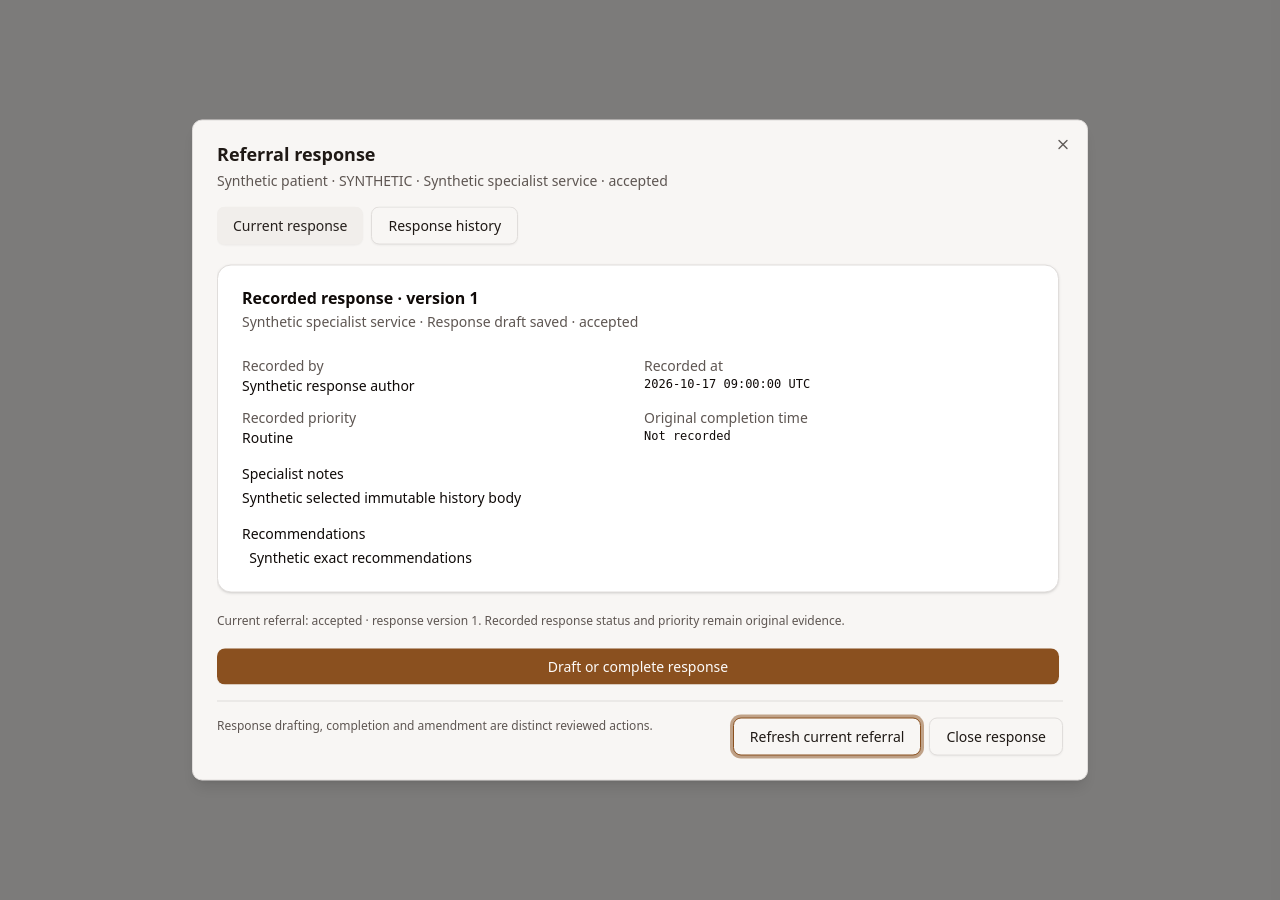
Scenario: reads exact historical body only after selecting a metadata version and never substitutes current content
Expected: the text "Synthetic selected immutable history body" is shown, [242,488,521,506]
Click the button "Response history".
click(445, 226)  # box [372,206,518,244]
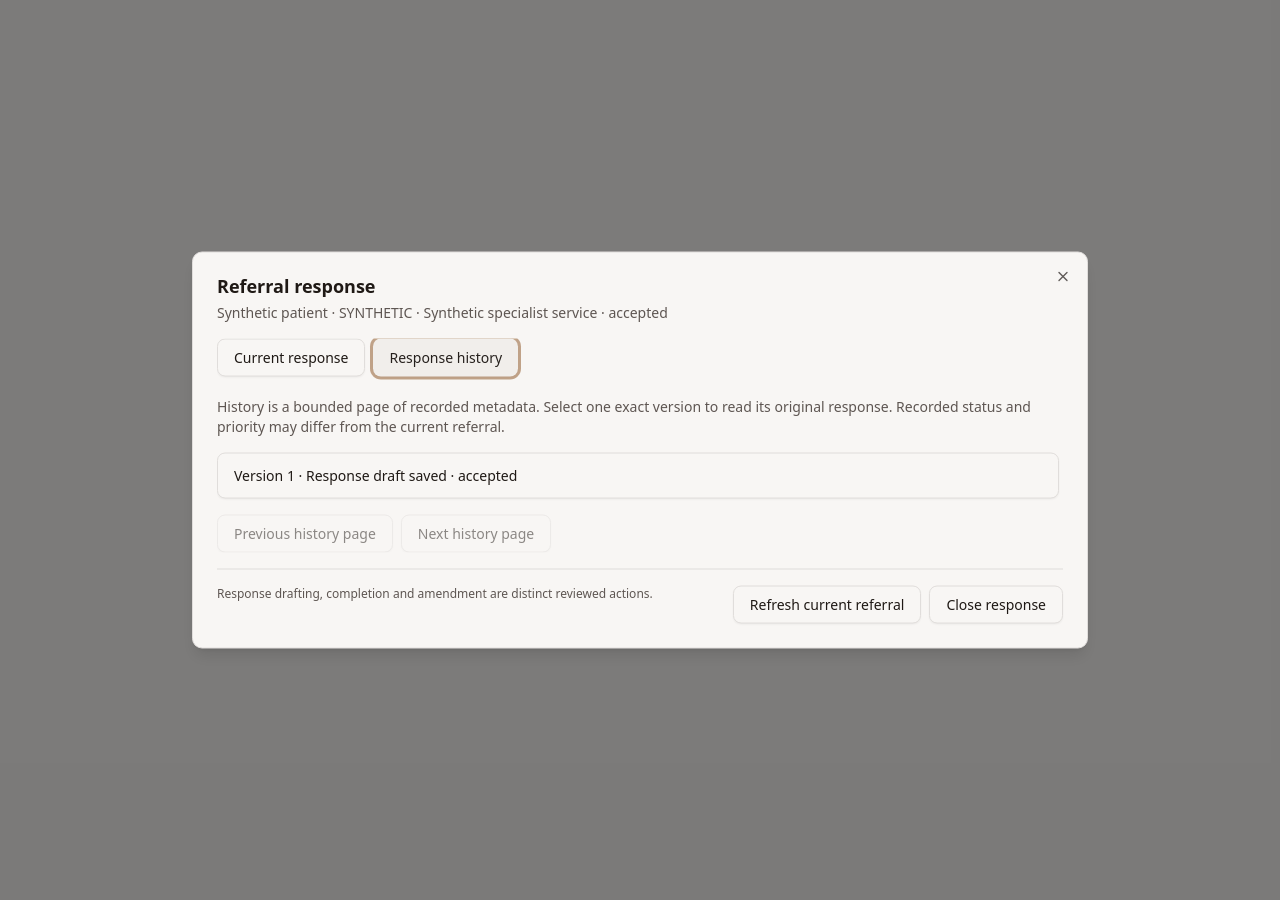
Expected: the button "Version 1 · Response draft saved · accepted" is shown
Click the button "Version 1 · Response draft saved · accepted".
click(260, 475)  # box [217,452,1059,498]
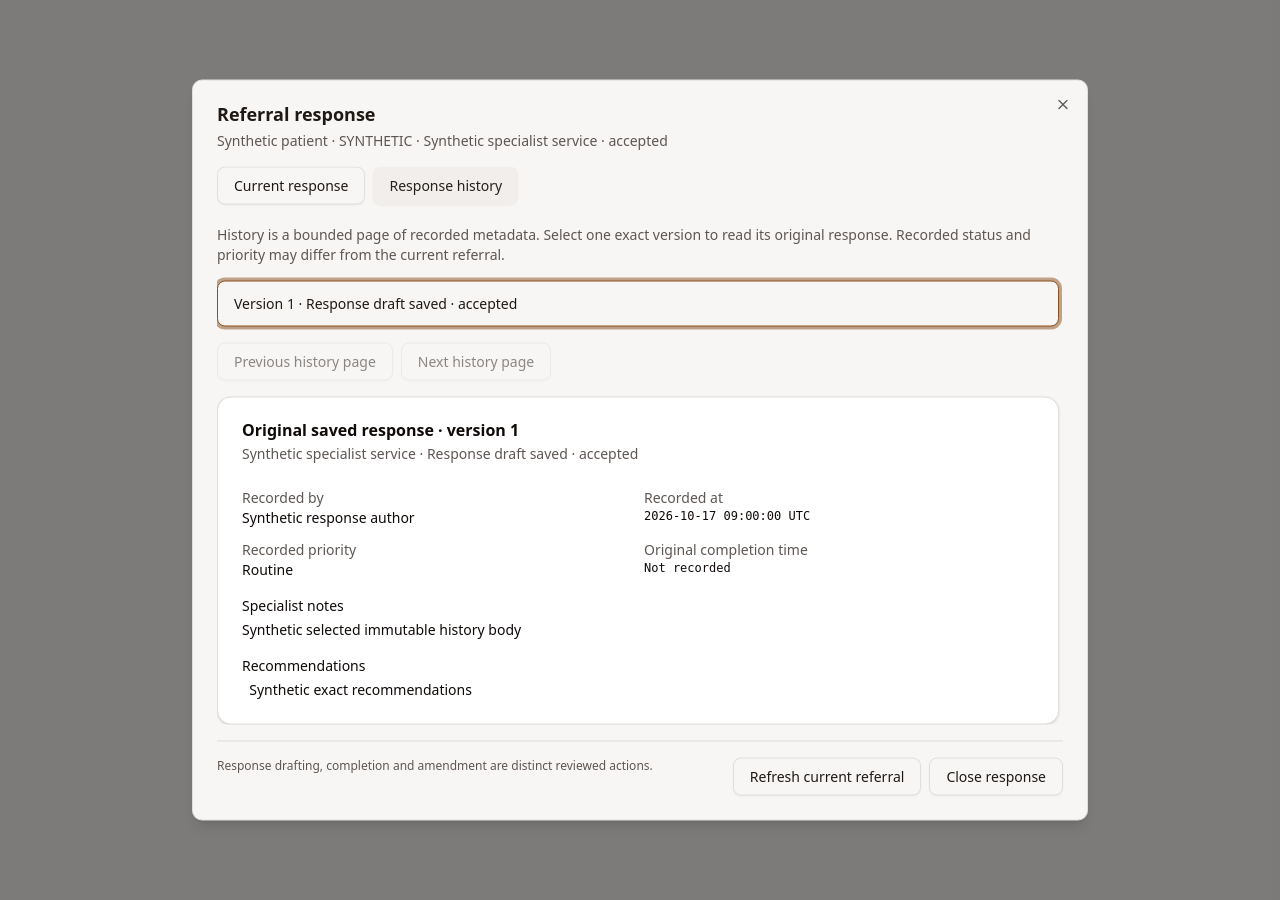
Expected: the text "Synthetic selected immutable history body" is shown, [242,620,521,638]
